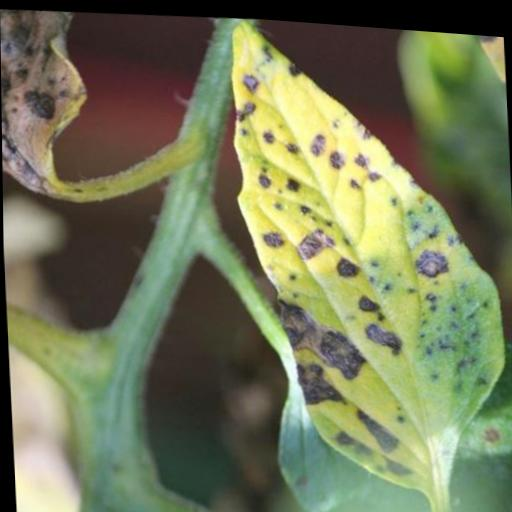Septoria: (218, 13, 512, 494)
